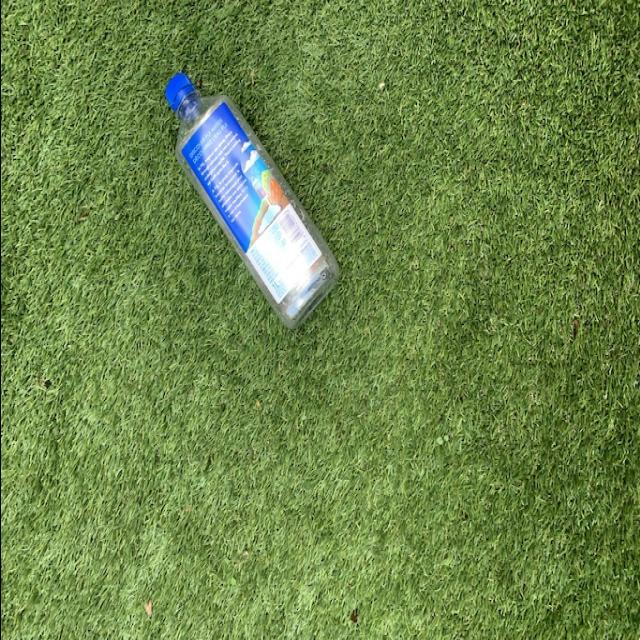litter: (160, 74, 339, 332)
